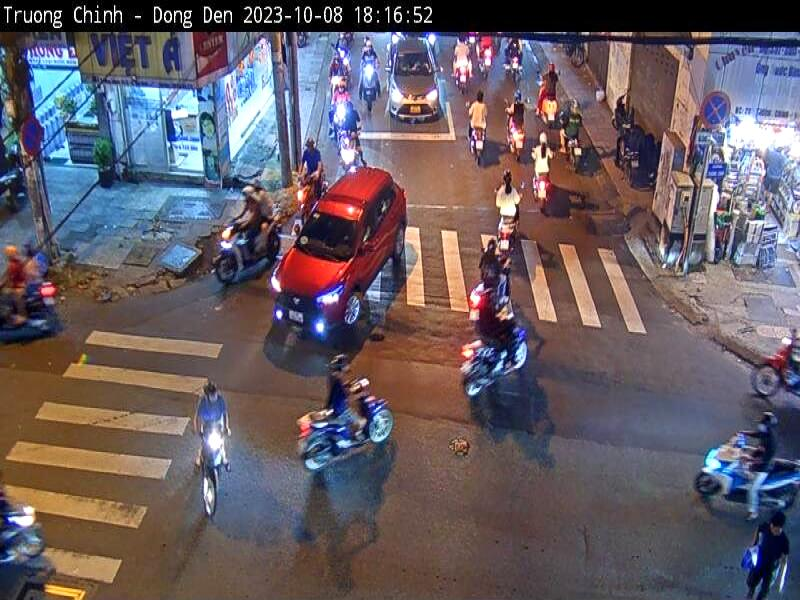car: (261, 153, 420, 359), (383, 34, 447, 150)
motorcycle: (274, 379, 416, 491), (441, 307, 546, 410), (697, 421, 799, 523), (212, 216, 289, 287), (750, 313, 794, 398)
